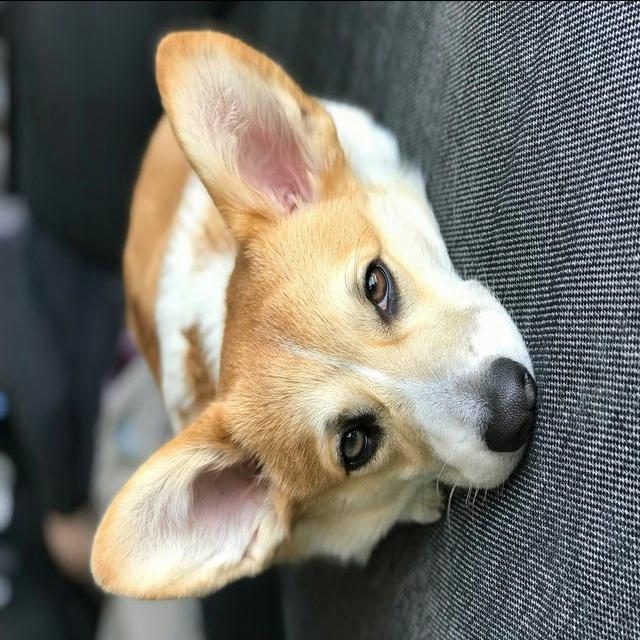corgi: (88, 26, 539, 600)
